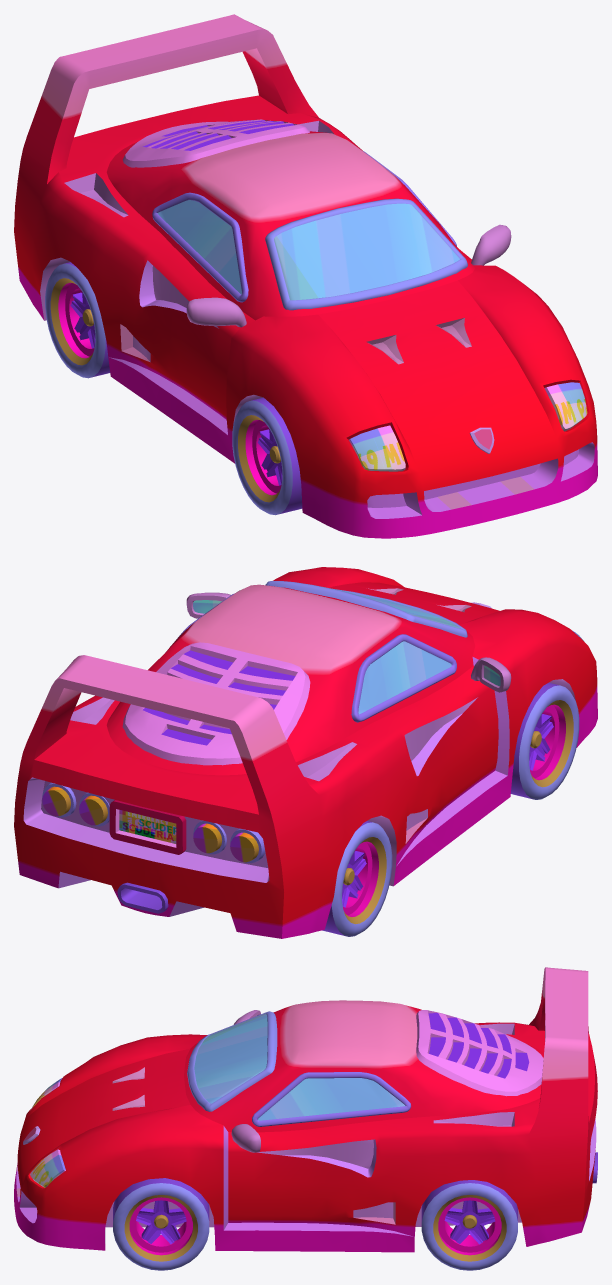
File: Scuderia_E40_GRP.fbx
3 views of the same model, one above another, from view 1: azimuth 30°, elevation 25°; view 2: azimuth 150°, elevation 25°; view 3: azimuth 270°, elevation 25° (orthographic). The views are drawn at different scales.
Parts seen in each view (by area): view 1: Scuderia_E40_mesh, Scuderia_E40_Wheel_FR_mesh, Scuderia_E40_Wheel_BR_mesh; view 2: Scuderia_E40_mesh, Scuderia_E40_Wheel_FR_mesh, Scuderia_E40_Wheel_BR_mesh; view 3: Scuderia_E40_mesh, Scuderia_E40_Wheel_FL_mesh, Scuderia_E40_Wheel_BL_mesh.
Part boxes in pixels (<box>): Scuderia_E40_mesh: <box>14,14,597,538</box>; Scuderia_E40_Wheel_FR_mesh: <box>232,397,302,515</box>; Scuderia_E40_Wheel_BR_mesh: <box>45,262,110,378</box>; Scuderia_E40_mesh: <box>14,567,597,938</box>; Scuderia_E40_Wheel_FR_mesh: <box>511,682,579,799</box>; Scuderia_E40_Wheel_BR_mesh: <box>322,821,392,936</box>; Scuderia_E40_mesh: <box>14,967,597,1252</box>; Scuderia_E40_Wheel_FL_mesh: <box>113,1178,209,1270</box>; Scuderia_E40_Wheel_BL_mesh: <box>421,1180,517,1270</box>.
Size of the model in its own units: 1.66 by 1.26 by 3.16.
